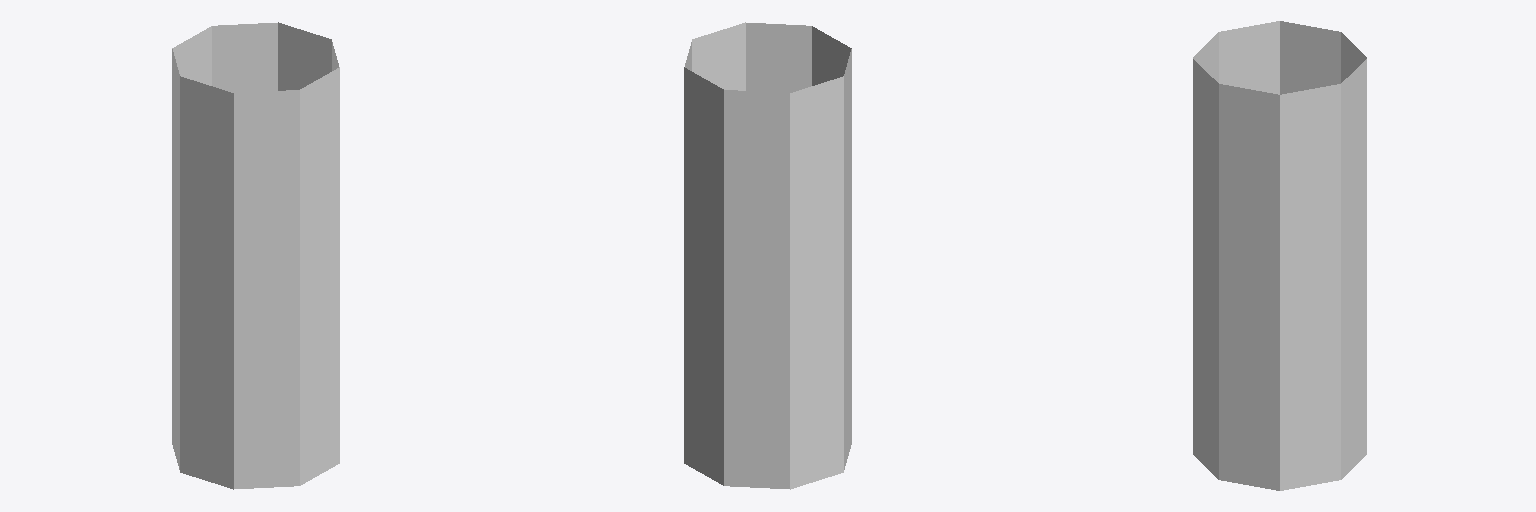
Rendered from PAINT.obj.
The picture shows the model from 3 angles: view 1: azimuth 30°, elevation 25°; view 2: azimuth 150°, elevation 25°; view 3: azimuth 270°, elevation 25°; orthographic projection.
Visible parts, largest first — view 1: PAINT_node00_face00; view 2: PAINT_node00_face00; view 3: PAINT_node00_face00.
Part boxes in pixels (bbox=[...]): PAINT_node00_face00: bbox=[172, 22, 339, 489]; PAINT_node00_face00: bbox=[684, 22, 851, 489]; PAINT_node00_face00: bbox=[1193, 21, 1366, 490].
Size of the model in its own units: 100 by 250 by 100.